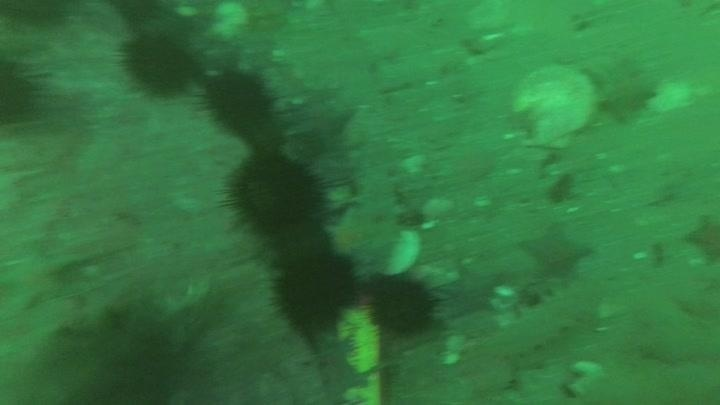echinus: (223, 151, 328, 237), (271, 250, 360, 335), (118, 29, 199, 98), (200, 67, 277, 136), (365, 274, 441, 339), (1, 50, 50, 128), (266, 216, 333, 267), (1, 1, 75, 30), (109, 1, 171, 30)
holothurian: (326, 109, 411, 272), (471, 279, 606, 369)
scallop: (509, 64, 598, 150), (381, 228, 424, 278)
starfish: (582, 54, 660, 124), (1, 244, 82, 311), (518, 221, 595, 283), (286, 93, 356, 151), (684, 213, 720, 265)
